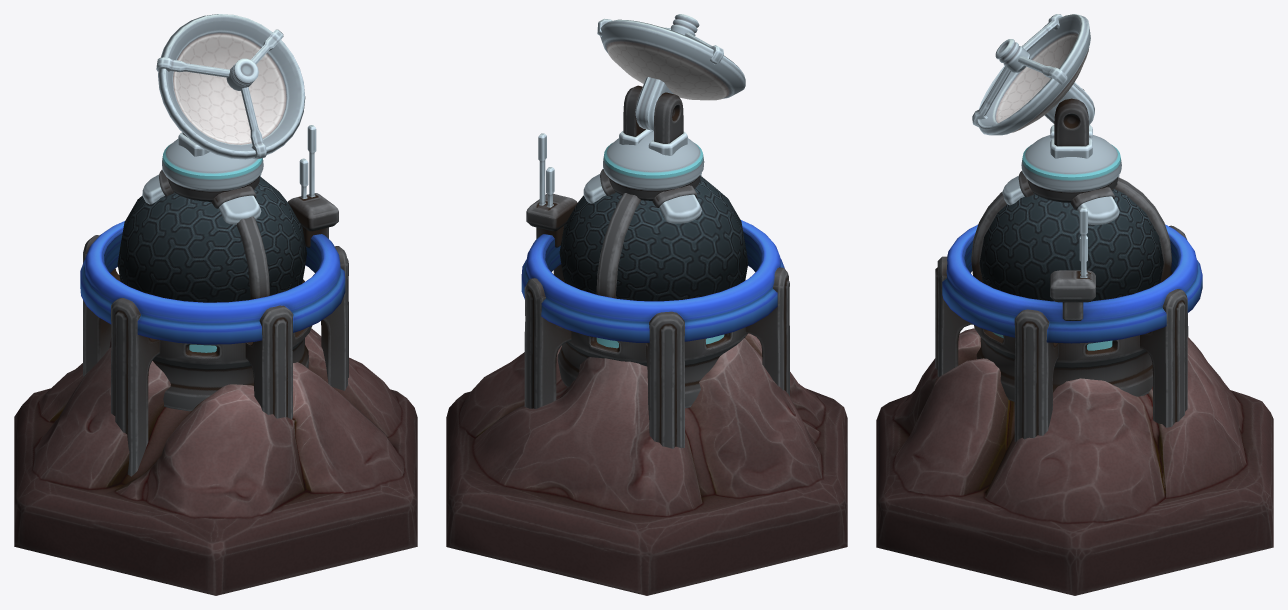
The model's file is CC_lvl1.fbx.
3 renders of one model, left to right at view 1: azimuth 30°, elevation 25°; view 2: azimuth 150°, elevation 25°; view 3: azimuth 270°, elevation 25°, orthographic.
Parts seen in each view (by area): view 1: CC_lvl1; view 2: CC_lvl1; view 3: CC_lvl1.
Boxes of the visible parts, x1,y1,x2,y2 form: CC_lvl1: (14,14,417,595); CC_lvl1: (446,14,847,595); CC_lvl1: (876,14,1273,595).
Size of the model in its own units: 7.51 by 8.54 by 6.51.
